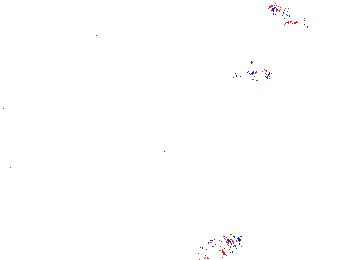X-ray fish: (196, 233, 241, 260)
red belly glassfish: (266, 3, 313, 26), (236, 67, 273, 83)
redtail glassfish: (118, 128, 178, 160)
